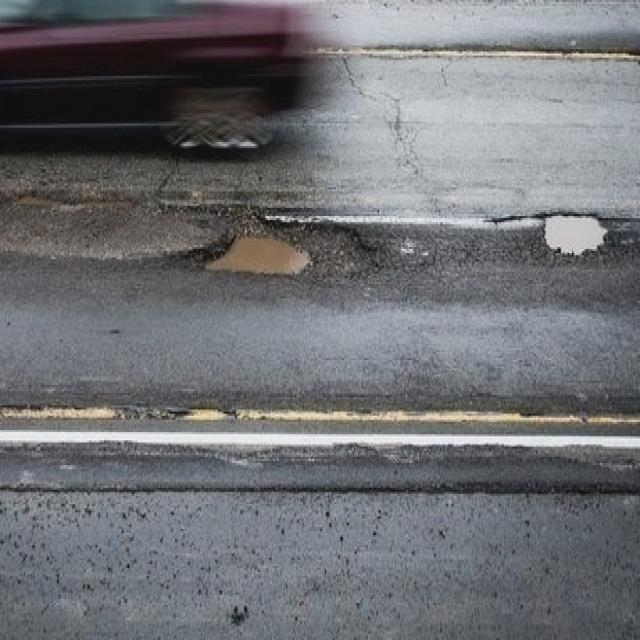road-pothole: (199, 214, 390, 283), (541, 211, 609, 258)
